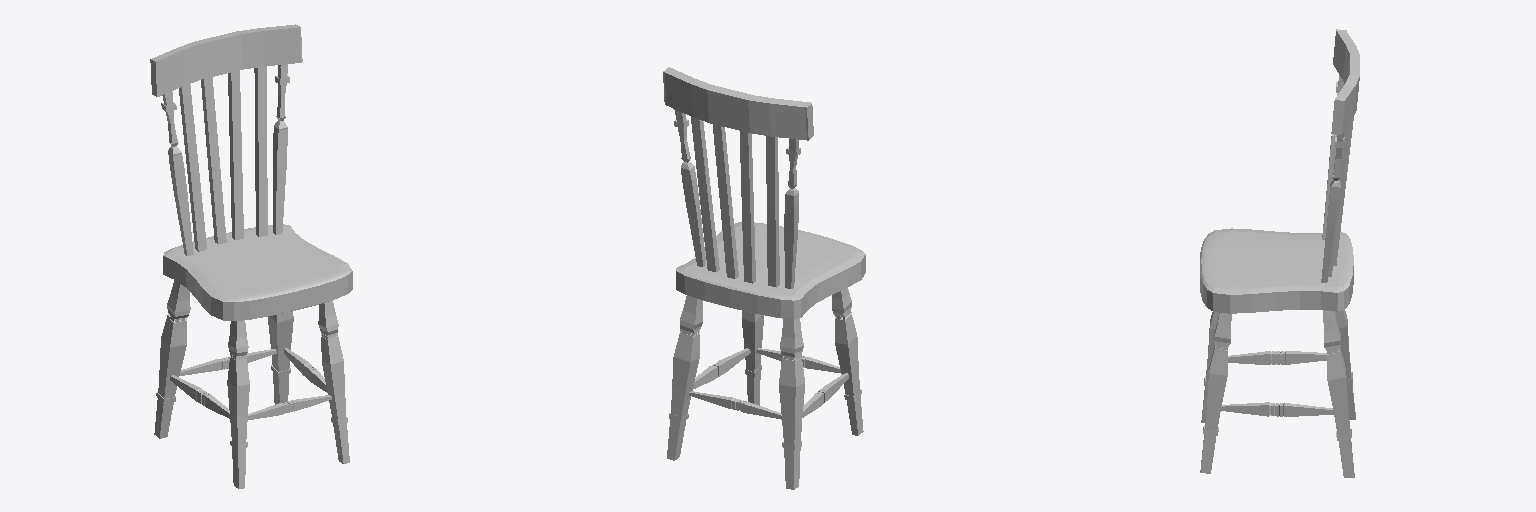
Rendered from chair.obj.
3 renders of one model, left to right at view 1: azimuth 30°, elevation 25°; view 2: azimuth 150°, elevation 25°; view 3: azimuth 270°, elevation 25°, orthographic.
Parts seen in each view (by area): view 1: Layer_01; view 2: Layer_01; view 3: Layer_01.
Part boxes in pixels (bbox=[...]): Layer_01: bbox=[150, 24, 352, 488]; Layer_01: bbox=[663, 67, 865, 489]; Layer_01: bbox=[1200, 29, 1359, 477].
Bounding box in the file's own units: 15.45 × 38.99 × 14.86.